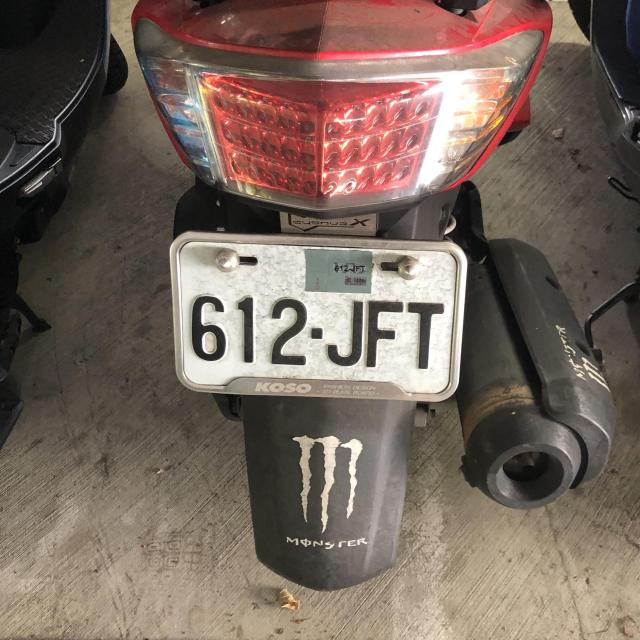W: (167, 233, 468, 396)
